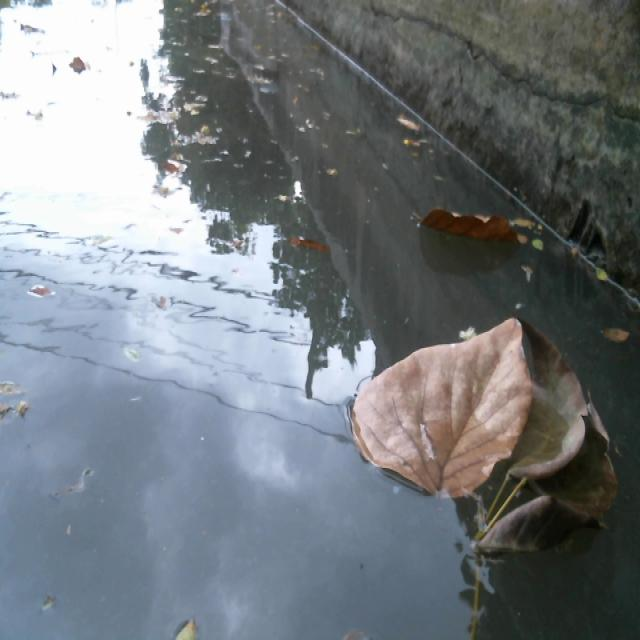Big-leaf: (340, 302, 532, 508), (474, 333, 608, 573), (409, 179, 531, 242)
Small-leaf: (274, 223, 339, 286), (176, 589, 208, 640), (597, 321, 634, 348), (393, 106, 425, 133), (599, 258, 615, 284), (533, 229, 547, 253)
